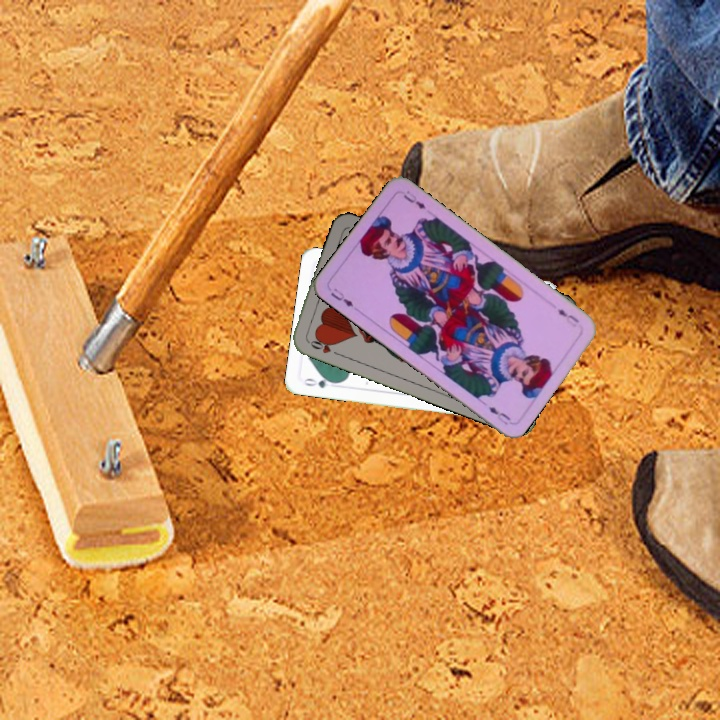EU: (327, 284, 357, 310), (553, 305, 582, 330)
GO: (300, 373, 340, 391)
HO: (304, 333, 342, 358)
